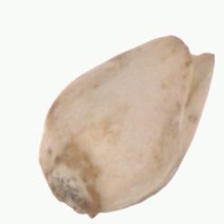L1: (45, 166, 99, 219), (167, 34, 216, 87)
L2: (38, 35, 215, 218)
